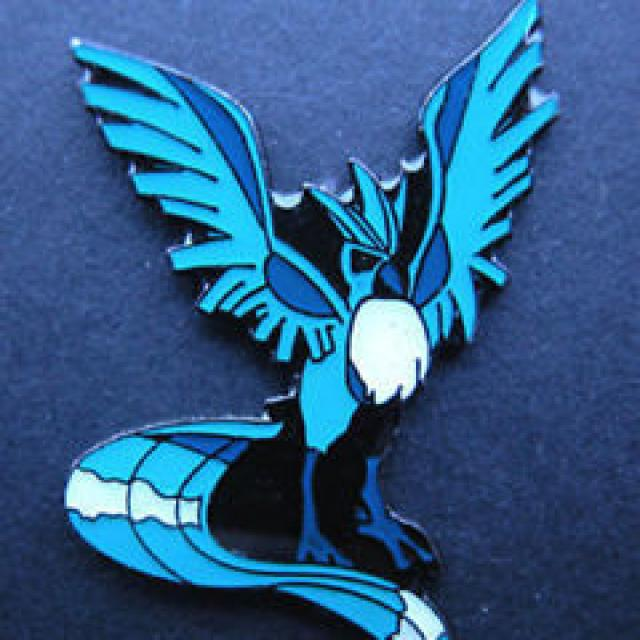Articuno: (73, 110, 544, 619)
